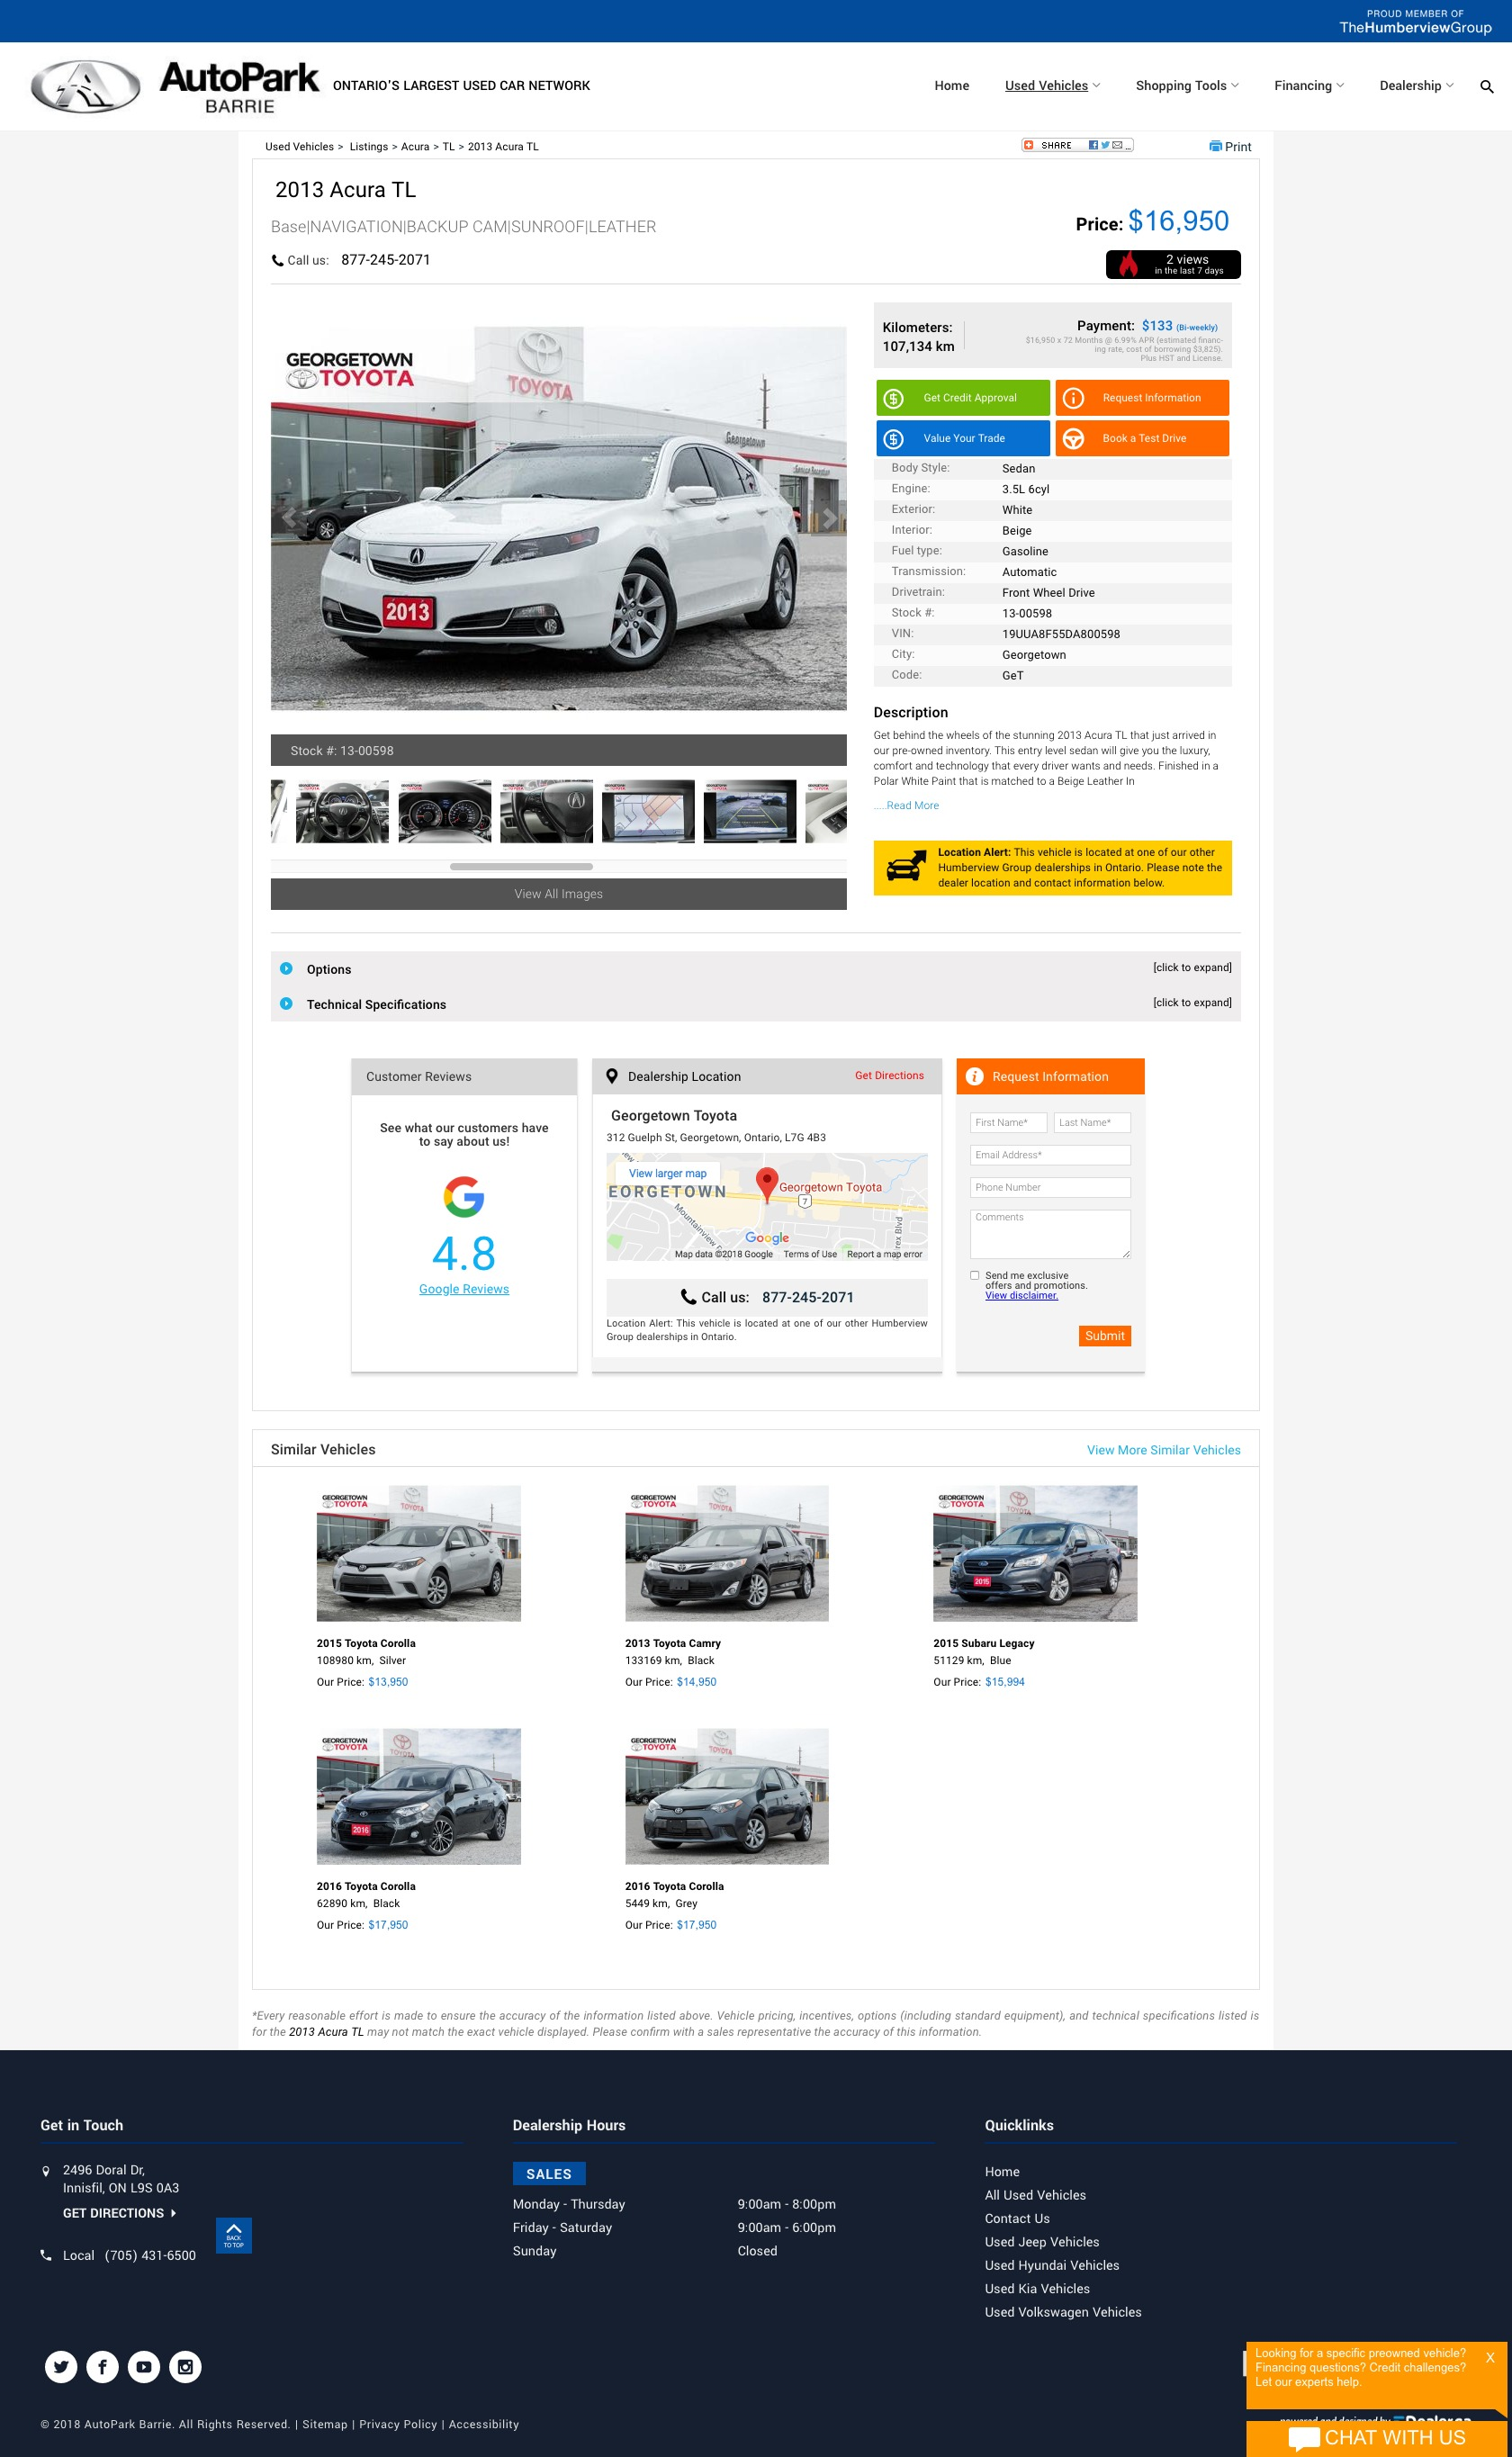car: (809, 500, 849, 539)
